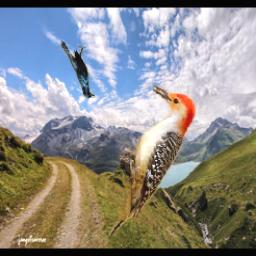Crow: (59, 41, 95, 99)
Woodpecker: (108, 84, 196, 238)
